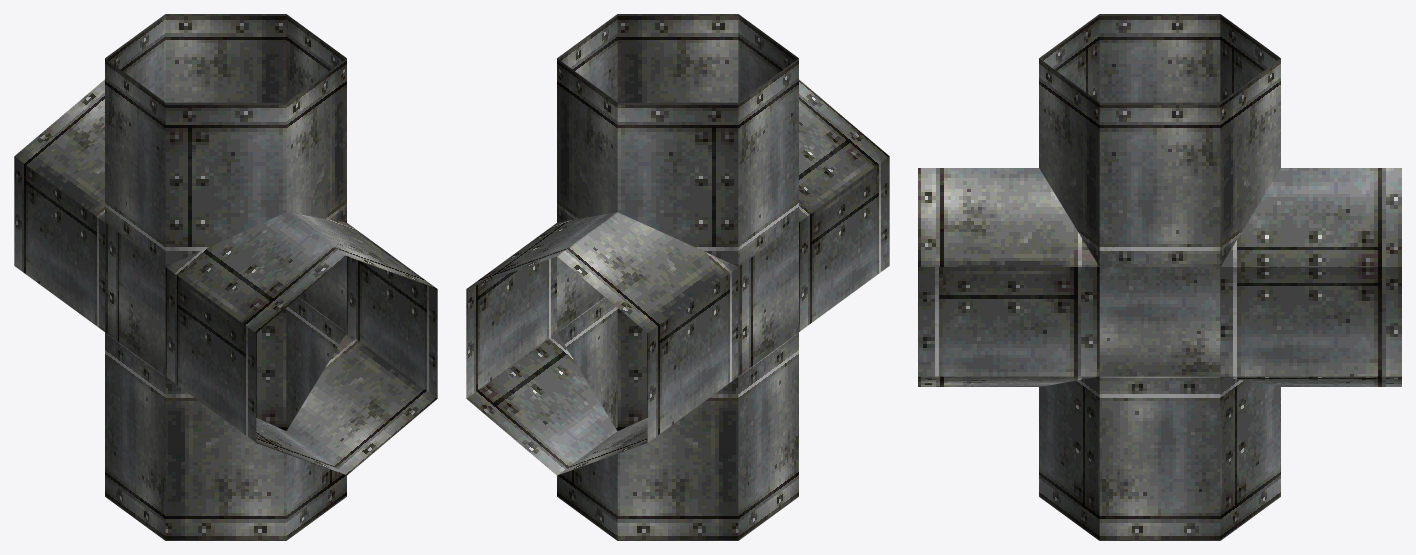
Rendered from pipe_intersection_4way.glb.
3 views of the same model, side by side, from view 1: azimuth 30°, elevation 25°; view 2: azimuth 150°, elevation 25°; view 3: azimuth 270°, elevation 25° (orthographic).
Visible parts, largest first — view 1: pipe_intersection_4way; view 2: pipe_intersection_4way; view 3: pipe_intersection_4way.
Part boxes in pixels (x1,y1,x2,y2): pipe_intersection_4way: [14, 14, 437, 540]; pipe_intersection_4way: [466, 14, 889, 540]; pipe_intersection_4way: [918, 14, 1401, 540].
Bounding box in the file's own units: 0.433 × 1 × 1.
Materials: 1 (1 with a texture image).
